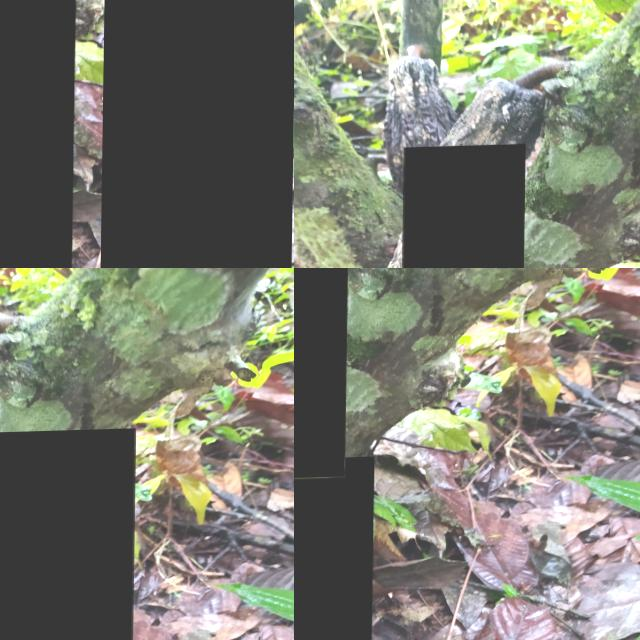Fitoftora: (294, 268, 348, 483)
Monilia: (0, 0, 76, 268), (294, 458, 375, 640)
Sana: (100, 0, 294, 268), (0, 431, 136, 640), (401, 145, 526, 268)
